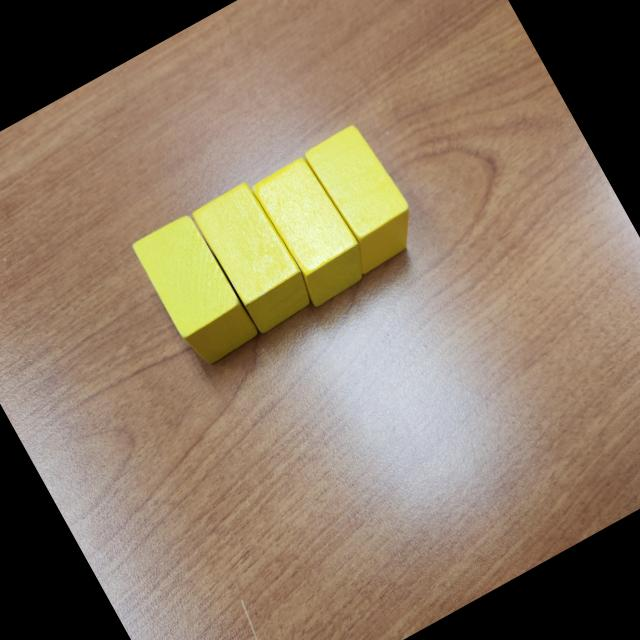yellow: (294, 118, 430, 278), (130, 210, 262, 372), (190, 178, 320, 338), (248, 154, 376, 310)
